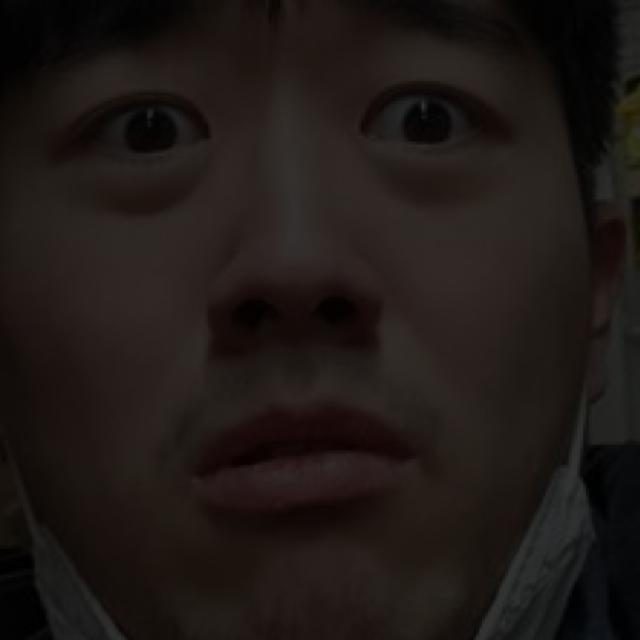Surprised: (0, 18, 554, 625)
